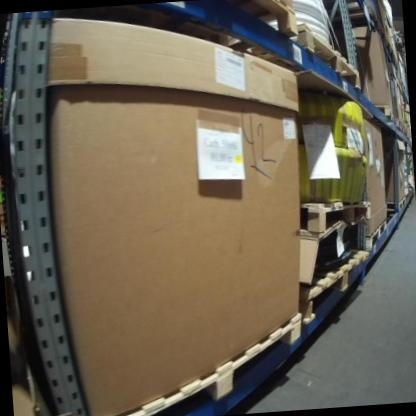pallet: (77, 311, 307, 416), (173, 0, 303, 52), (290, 17, 367, 97), (298, 246, 371, 324), (302, 199, 370, 233), (362, 218, 392, 255), (383, 196, 407, 215), (393, 112, 409, 140), (376, 104, 393, 120)
